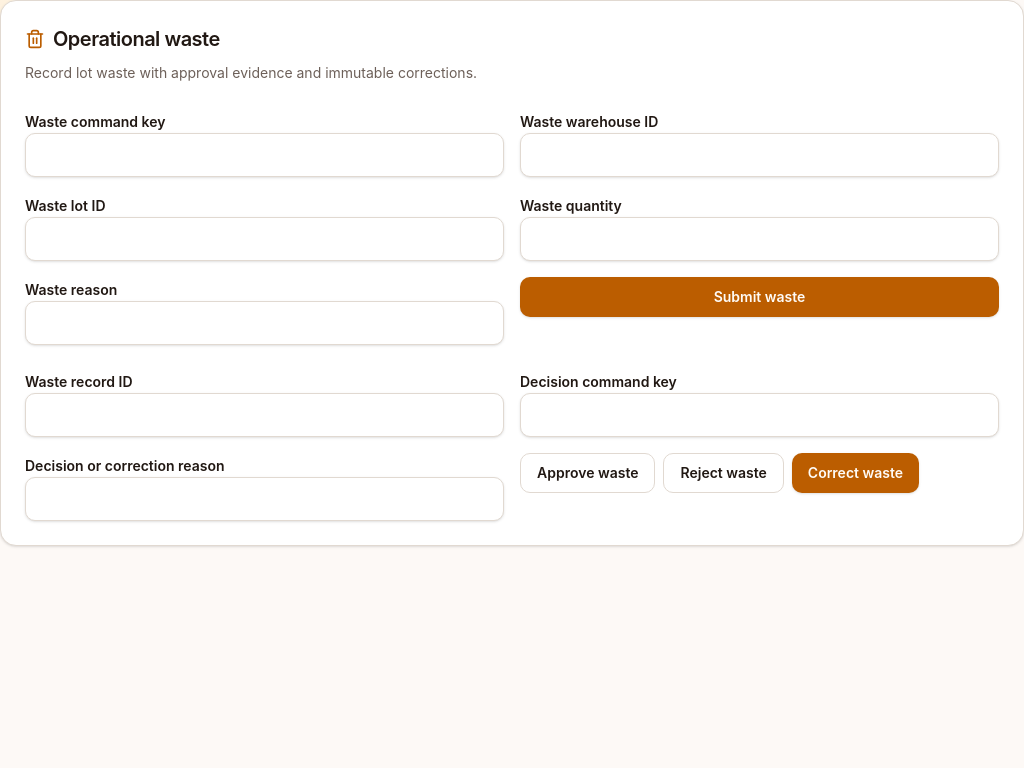
Test: operational waste › preserves correction input on conflict
The image size is (1024, 768).
Type "w1" into the field labelled "Waste record ID". click: (264, 415)
box: x1=25 y1=393 x2=504 y2=437
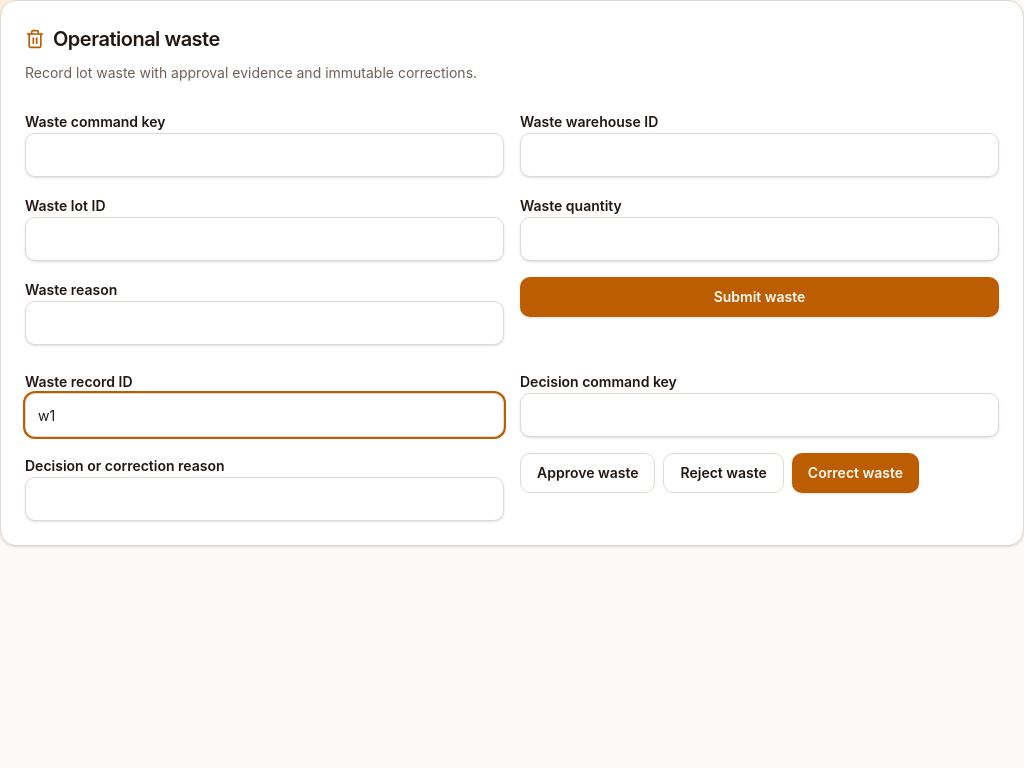
Type "correct-1" into the field labelled "Decision command key". click: (760, 415)
box: x1=520 y1=393 x2=999 y2=437
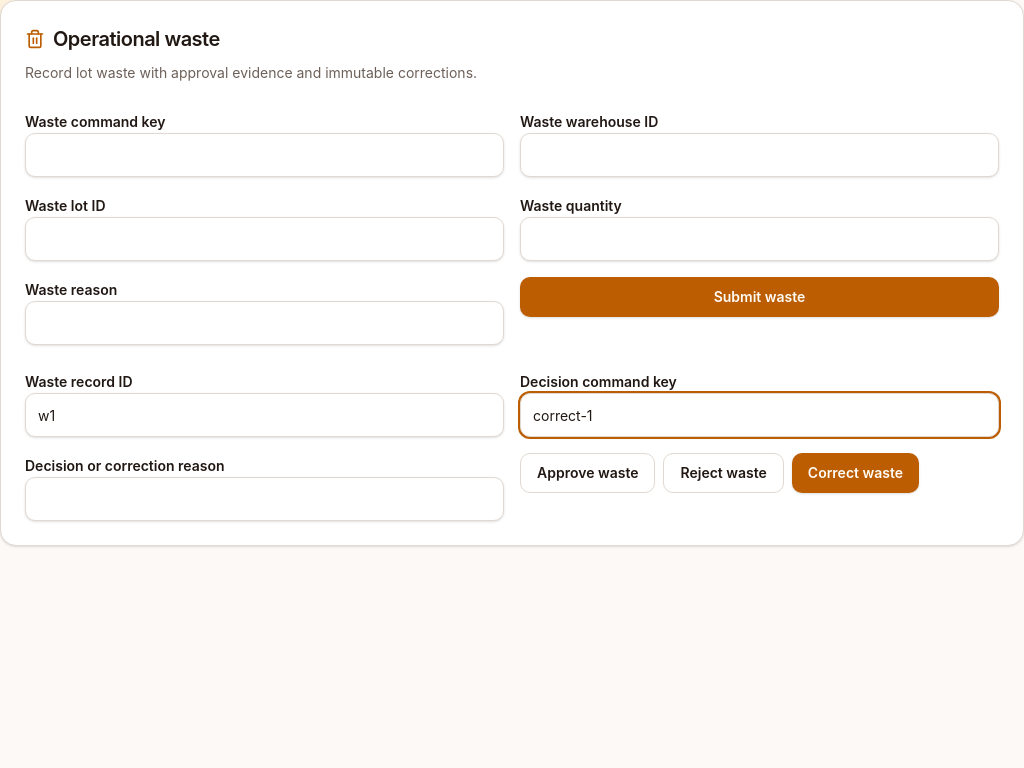
Type "mistake" into the field labelled "Decision or correction reason". click: (264, 499)
box: x1=25 y1=477 x2=504 y2=521
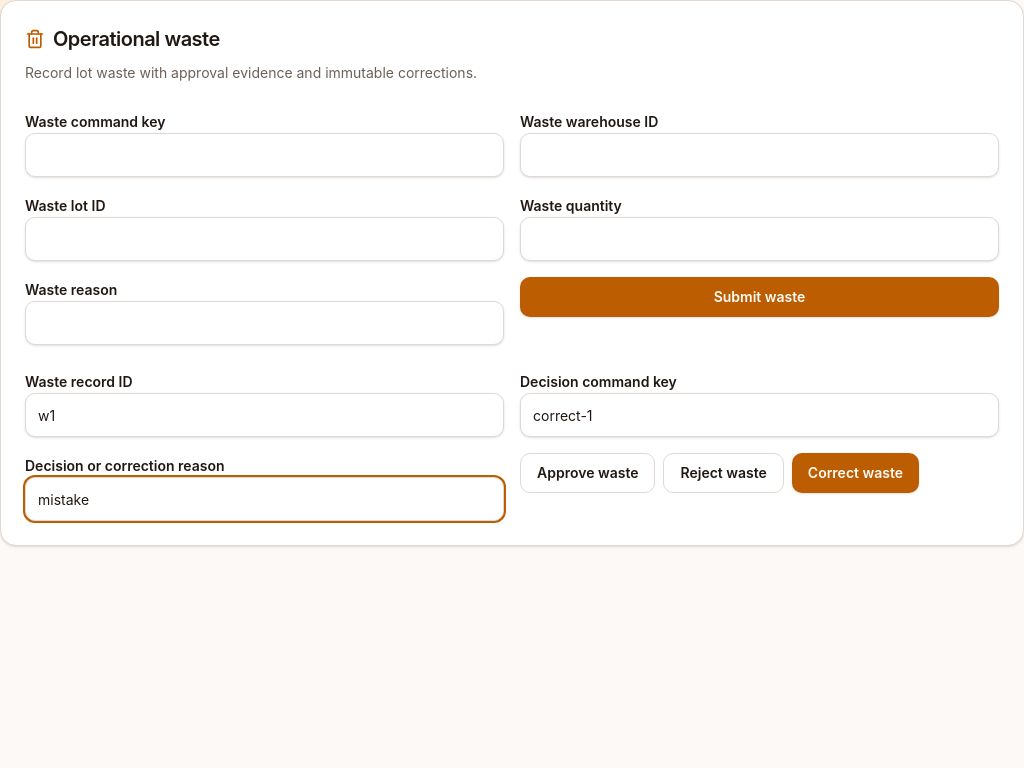
Click the button "Correct waste". click: (855, 473)
box: x1=792 y1=453 x2=919 y2=493
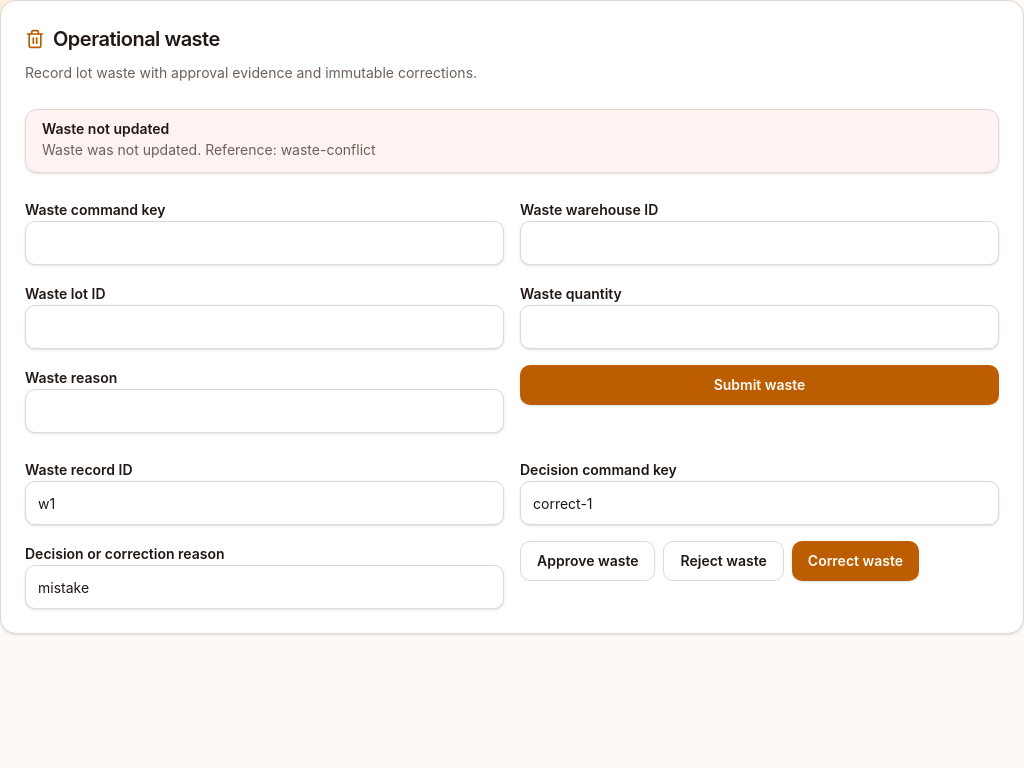
Expected: the message shows "waste-conflict", x1=42 y1=141 x2=376 y2=158
